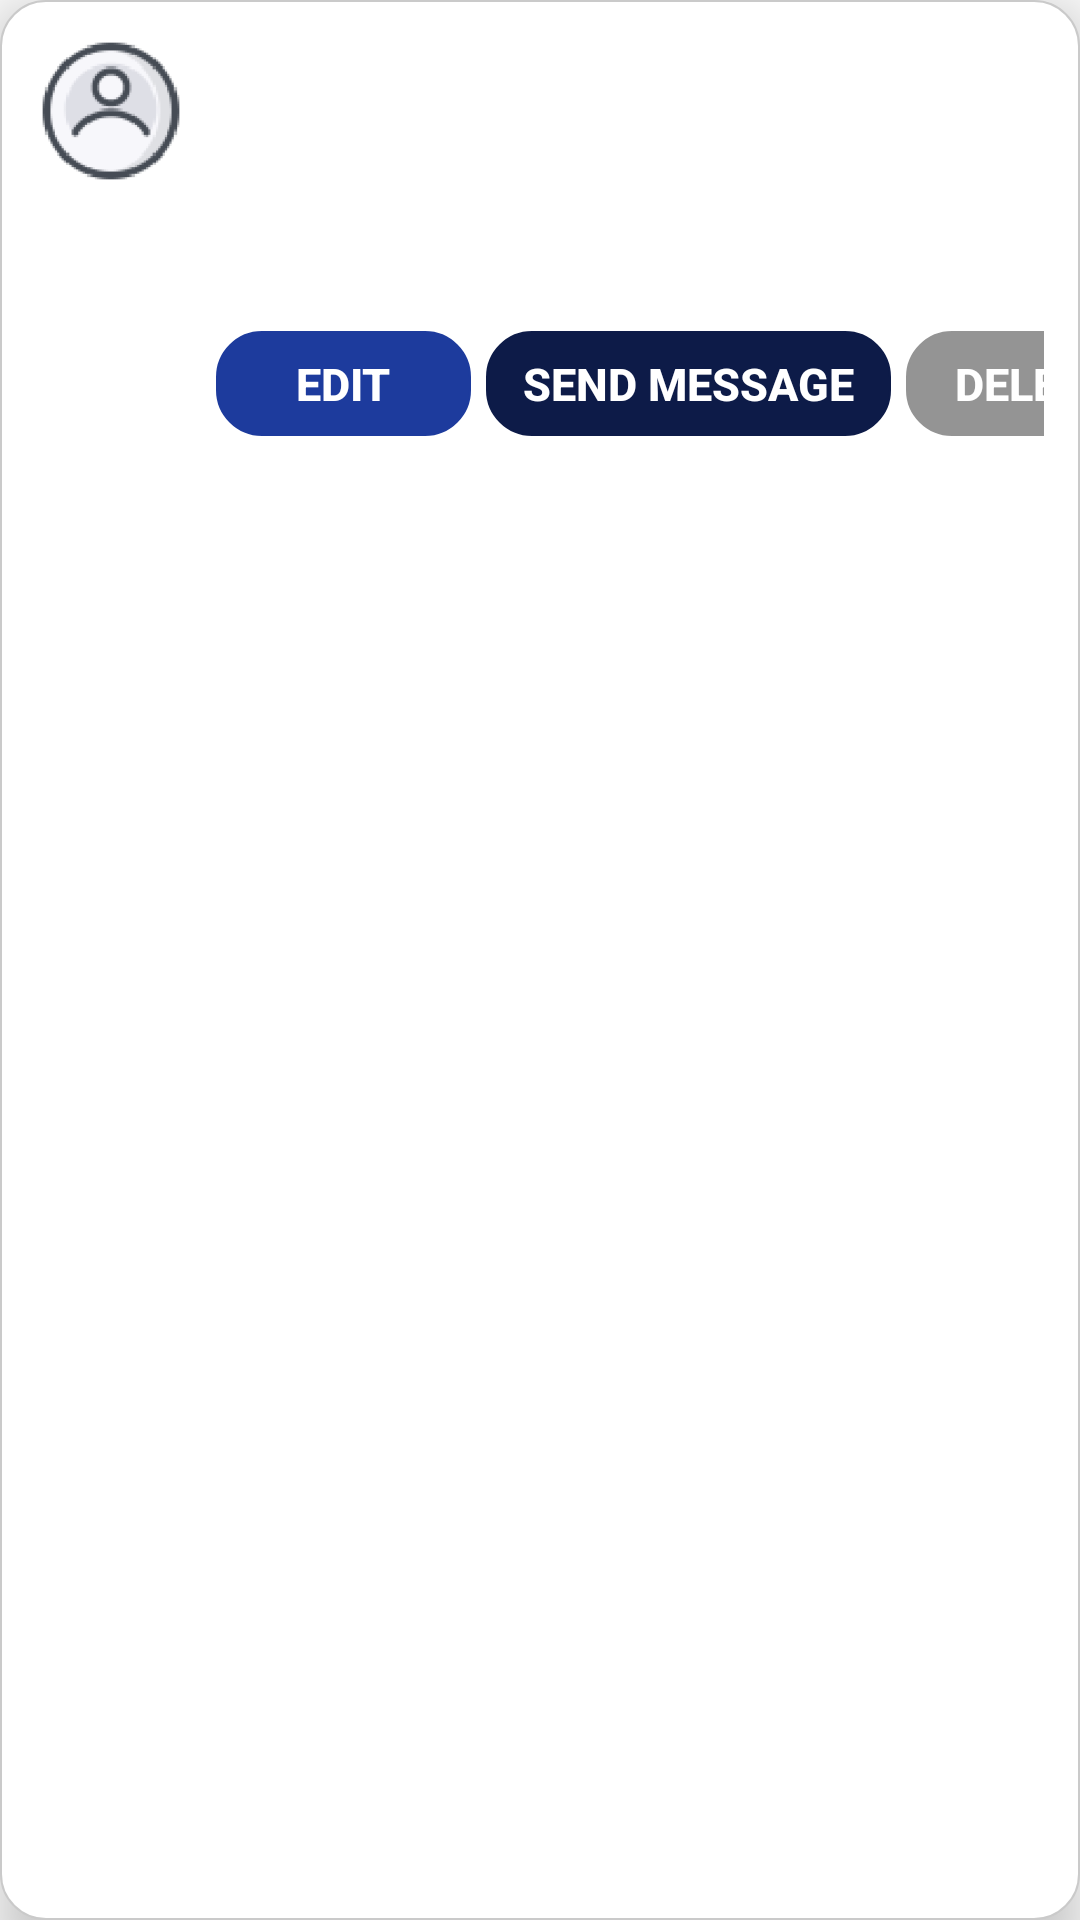

Where icons sit on this 1080*1920 app screen, as {"x1": x1, "y1": y1, "x2": x2, "y2": y2}:
image of user: {"x1": 42, "y1": 42, "x2": 180, "y2": 180}
